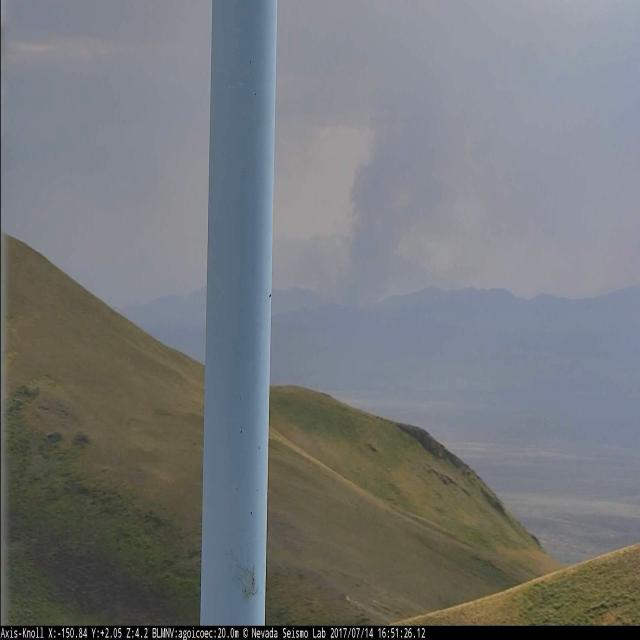smoke: (333, 123, 408, 310)
